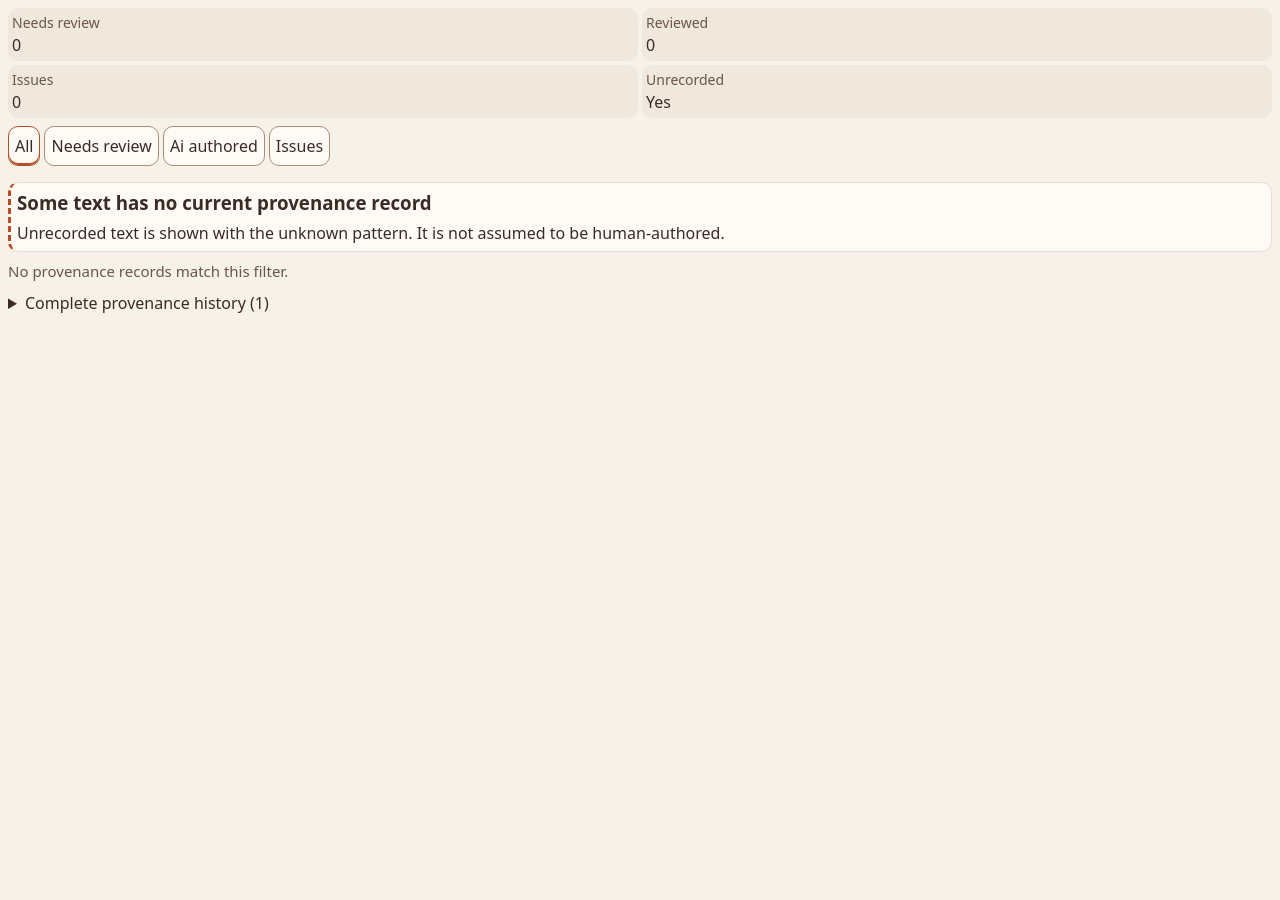
it: ProvenancePanel › keeps global append-only history inspectable without a current head
The image size is (1280, 900).
Click the heading "Complete provenance history (1)".
click(147, 303)  # box [25, 292, 269, 314]
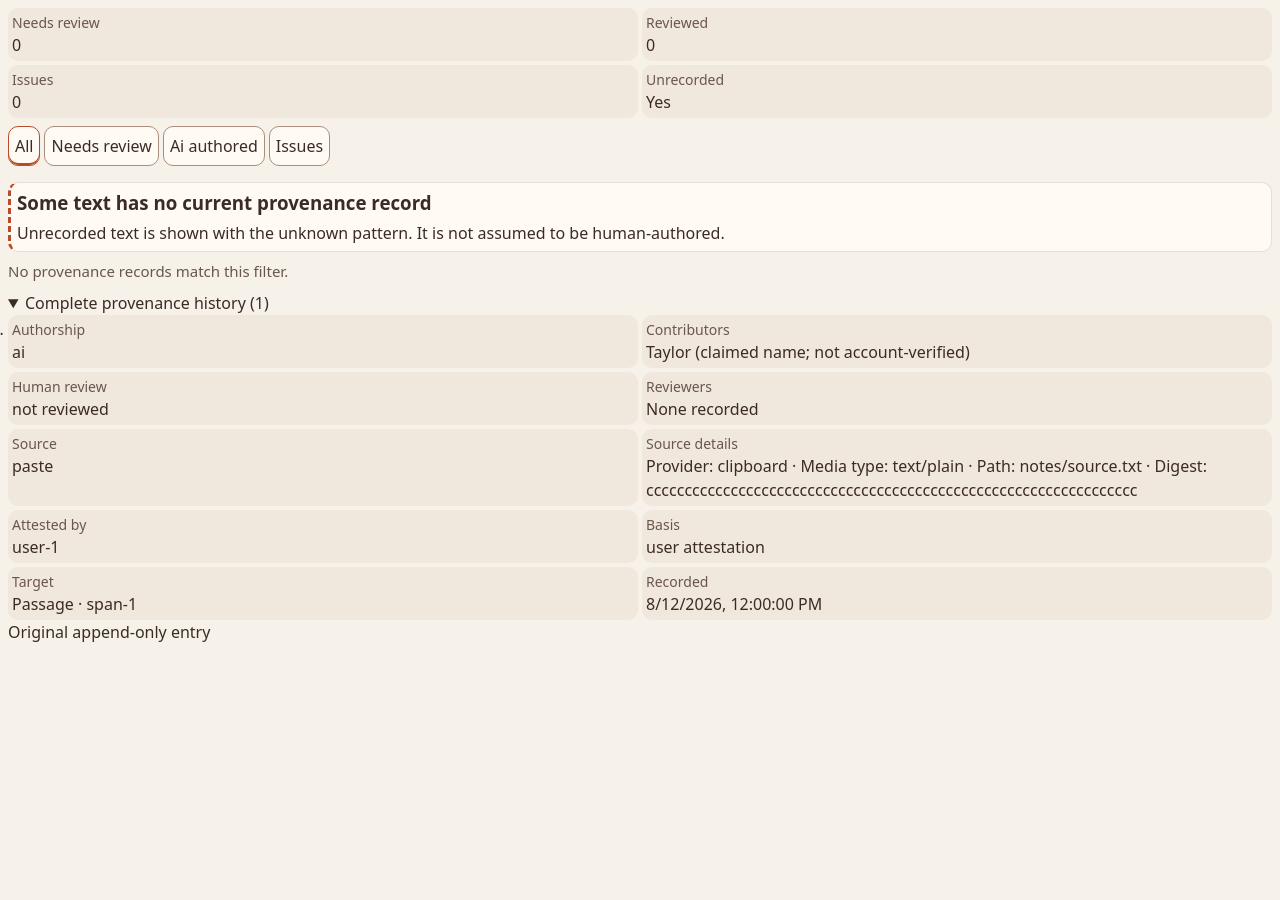
Expected: the text "Passage · span-1" is shown, [12, 593, 137, 615]
